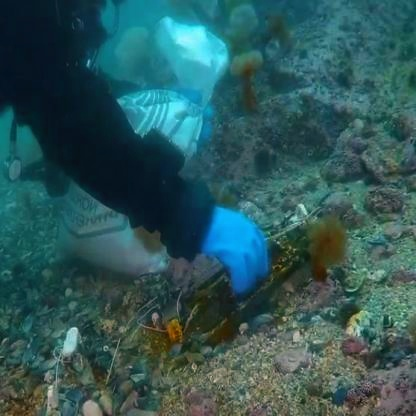electronics: (122, 274, 345, 339)
plastic: (113, 24, 231, 142)
